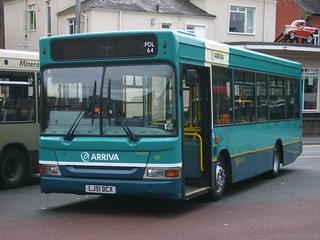bus: (38, 28, 303, 202)
